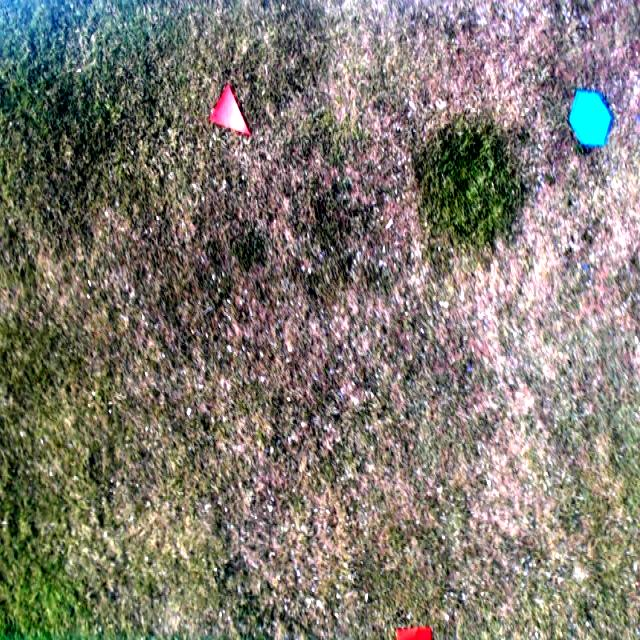blue_hexagon: (564, 87, 612, 150)
red_triangle: (207, 83, 254, 144)
